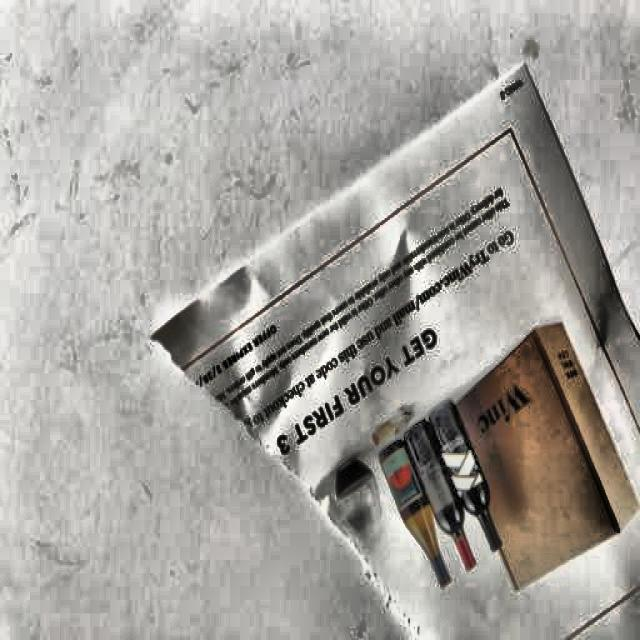paper: (150, 54, 640, 640)
